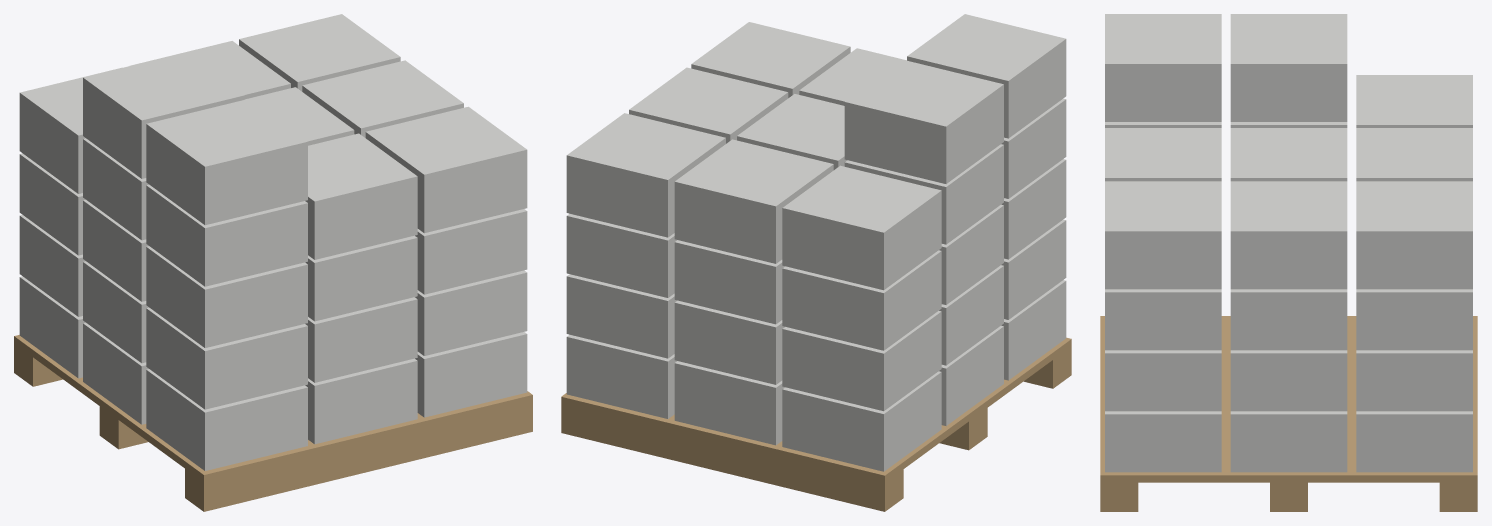
Rendered from pallet_mp_38.glb.
The picture shows the model from 3 angles, left to right: view 1: azimuth 30°, elevation 25°; view 2: azimuth 150°, elevation 25°; view 3: azimuth 270°, elevation 25°; orthographic projection.
Parts seen in each view (by area): view 1: PalletMP; view 2: PalletMP; view 3: PalletMP.
Part boxes in pixels (bbox=[...]): PalletMP: bbox=[14, 14, 532, 511]; PalletMP: bbox=[561, 14, 1071, 511]; PalletMP: bbox=[1100, 14, 1477, 511].
Size of the model in its own units: 1 by 0.9957 by 1.
